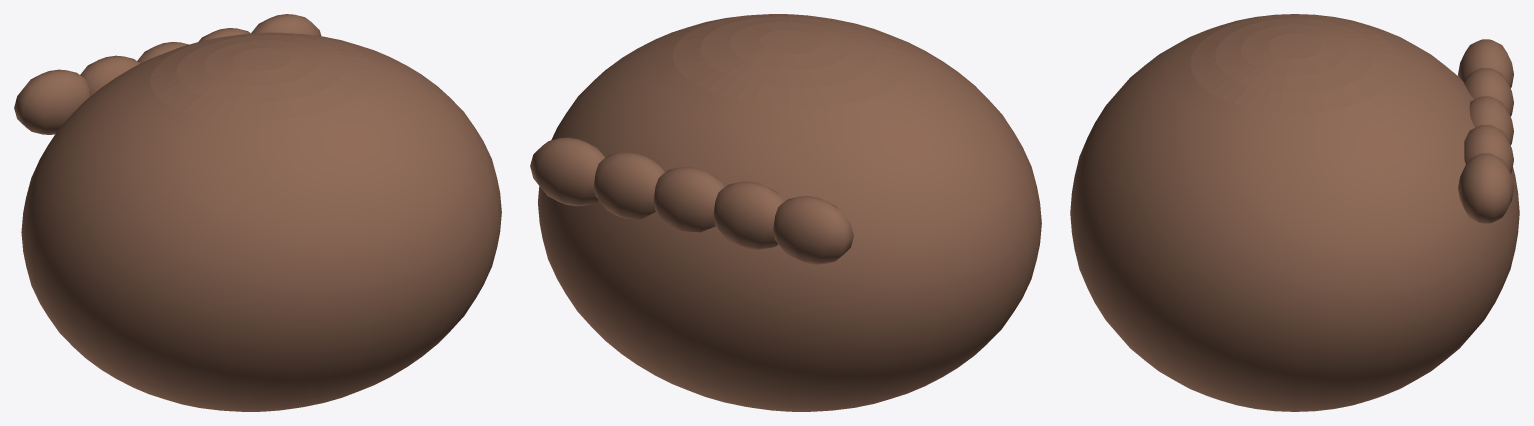
The model's file is Hair_Bob.fbx.
The picture shows the model from 3 angles, left to right: view 1: azimuth 30°, elevation 25°; view 2: azimuth 150°, elevation 25°; view 3: azimuth 270°, elevation 25°; orthographic projection. The views are drawn at different scales.
Parts seen in each view (by area): view 1: Bob_Hair, Bob_Bang.004, Bob_Bang.003, Bob_Bang; view 2: Bob_Hair, Bob_Bang.004, Bob_Bang, Bob_Bang.003, Bob_Bang.001, Bob_Bang.002; view 3: Bob_Hair, Bob_Bang, Bob_Bang.004, Bob_Bang.001, Bob_Bang.003, Bob_Bang.002.
Boxes of the visible parts, x1,y1,x2,y2 form: Bob_Hair: [21, 32, 501, 411]; Bob_Bang.004: [14, 69, 90, 134]; Bob_Bang.003: [80, 55, 140, 96]; Bob_Bang: [251, 14, 321, 36]; Bob_Hair: [538, 14, 1041, 411]; Bob_Bang.004: [773, 196, 853, 264]; Bob_Bang: [530, 137, 604, 206]; Bob_Bang.003: [713, 181, 784, 249]; Bob_Bang.001: [594, 152, 664, 219]; Bob_Bang.002: [653, 167, 724, 232]; Bob_Hair: [1070, 14, 1519, 411]; Bob_Bang: [1458, 153, 1513, 223]; Bob_Bang.004: [1458, 39, 1513, 88]; Bob_Bang.001: [1464, 125, 1513, 173]; Bob_Bang.003: [1464, 68, 1513, 116]; Bob_Bang.002: [1469, 96, 1513, 145].
Bounding box in the file's own units: 90 × 66 × 80.
